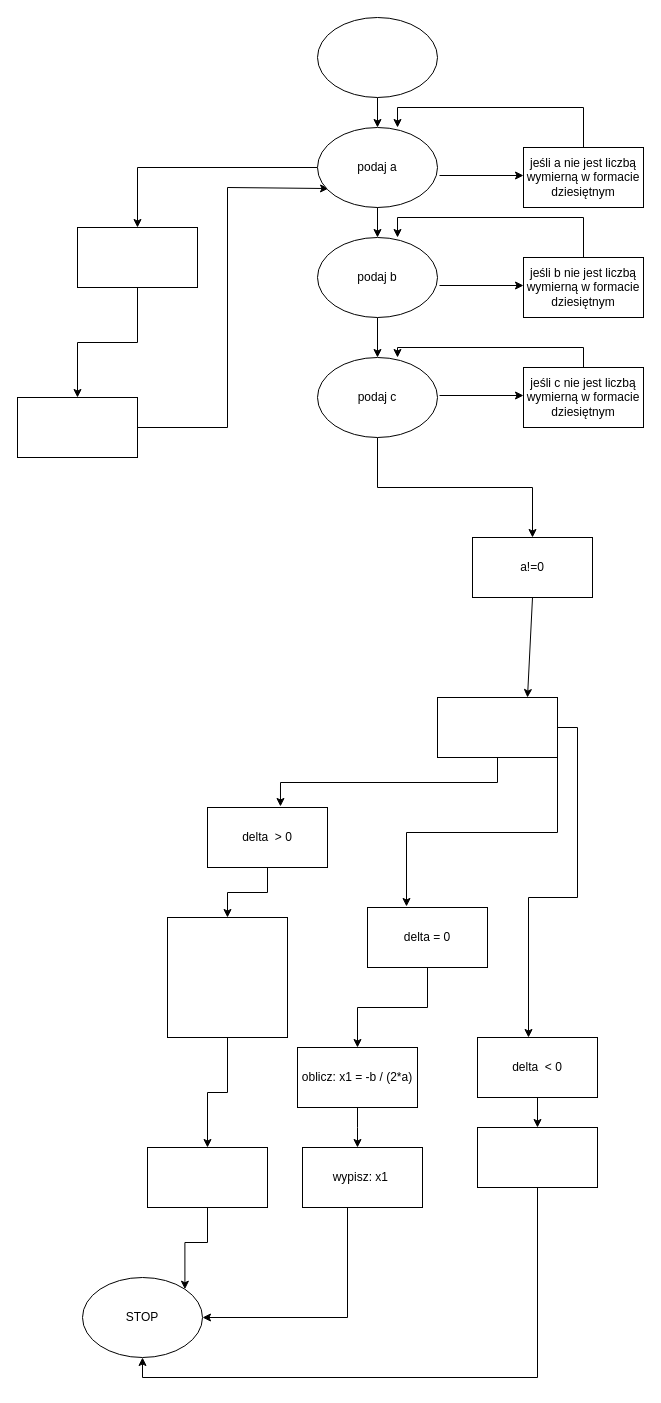
Image size: 661x1403. Some labels were removed from this diagram. Here are the shapes that lost their labels. From the top down, the centre of each, then its label:
At (x=377, y=57): "START".
At (x=137, y=257): "a==0".
At (x=77, y=427): "wypisz: to nie jest równanie kwadratowe podaj liczbę różną od zera".
At (x=497, y=727): "oblicz: delta = b2-4ac".
At (x=227, y=977): "oblicz: x1 =(-b -sqrt(delta)) / (2*a) x2 =(-b +sqrt(delta)) / (2*a)".
At (x=207, y=1177): "wypisz: x1 i x2".
At (x=537, y=1157): "wypisz: brak rozwiązań rzeczywistych".
